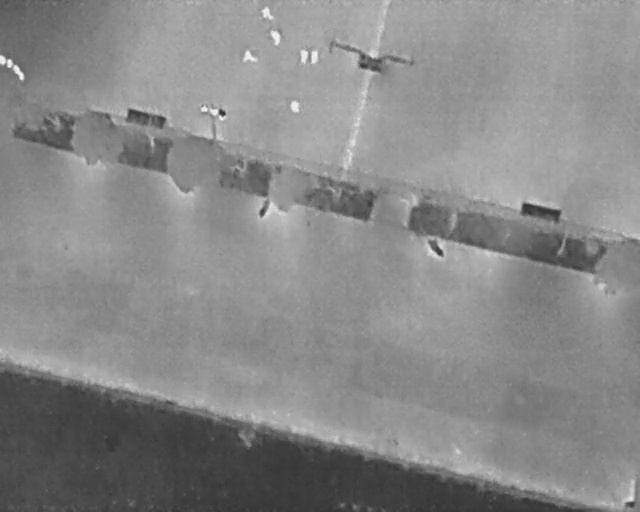Person: (241, 49, 257, 62), (261, 5, 273, 20), (271, 28, 281, 45), (299, 48, 309, 64), (290, 99, 300, 113), (311, 48, 319, 64)
